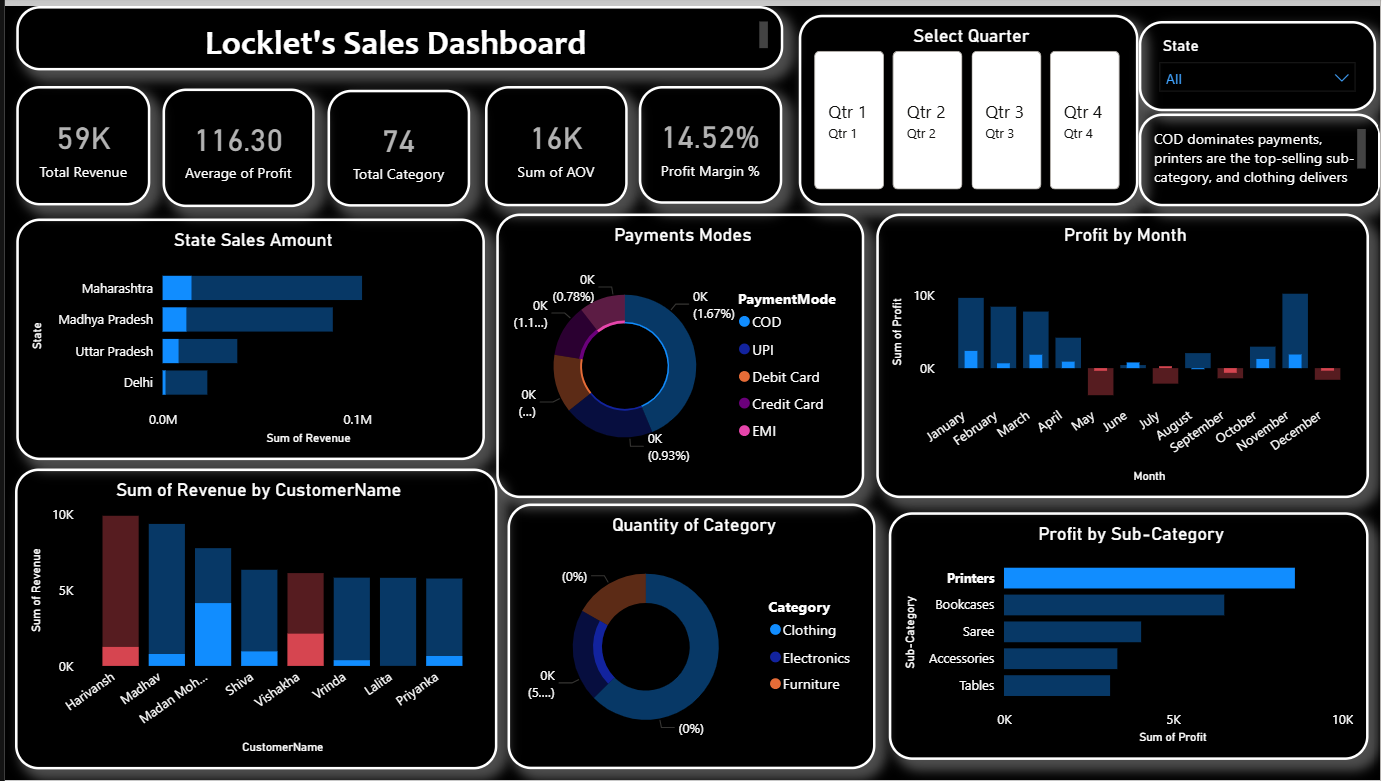

What the dashboard file says about the page in this screenshot:
{"tool":"powerbi","page":{"name":"Page 1","canvas":[1280,720],"ordinal":0},"visuals":[{"type":"textbox","box":[10,0,713.8,60],"z":0},{"type":"donutChart","title":"Quantity of Category","fields":{"Category":["Details.Category"],"Y":["Sum(Details.Quantity)"]},"box":[467.5,462.5,342.5,247.5],"z":1000},{"type":"clusteredColumnChart","title":"Profit by Month","fields":{"Y":["Sum(Details.Profit)"],"Category":["Orders.Order Date.Variation.Date Hierarchy.Month"]},"box":[810,192.5,458.8,265],"z":2000},{"type":"barChart","title":"Profit by Sub-Category","fields":{"Category":["Details.Sub-Category"],"Y":["Sum(Details.Profit)"]},"box":[822.5,471.2,446.2,230],"z":3000},{"type":"donutChart","title":"Quantity of Category","fields":{"Y":["Sum(Details.Quantity)"],"Category":["Details.PaymentMode"]},"box":[457.5,192.5,342.5,265],"z":4000},{"type":"card","fields":{"Values":["Sum(Details.Amount)"]},"box":[10,75,125,111.2],"z":5000},{"type":"card","fields":{"Values":["Avg(Details.Profit)"]},"box":[146.2,76.2,141.2,110],"z":6000},{"type":"card","fields":{"Values":["CountNonNull(Details.Category)"]},"box":[300,77.5,132.5,108.8],"z":7000},{"type":"card","fields":{"Values":["Sum(Details.AOV)"]},"box":[446.2,75,128.8,111.2],"z":8000},{"type":"barChart","title":"State Sales Amount","fields":{"Category":["Orders.State"],"Y":["Sum(Details.Amount)"]},"box":[10,197.5,436.2,225],"z":9000},{"type":"columnChart","fields":{"Category":["Orders.CustomerName"],"Y":["Sum(Details.Amount)"]},"box":[8.8,430,448.8,280],"z":10000},{"type":"advancedSlicerVisual","title":"Select Quarter","fields":{"Values":["Orders.Order Date.Variation.Date Hierarchy.Quarter"],"Label":["Min(Orders.Order Date.Variation.Date Hierarchy.Quarter)"]},"box":[738.5,8.4,301.4,177.7],"z":11000},{"type":"slicer","fields":{"Values":["Orders.State"]},"box":[1045.4,51.2,230.2,93],"z":12000},{"type":"card","fields":{"Values":["Details.Profit Margin %"]},"box":[589.6,74.4,133.3,109.3],"z":13000}]}

Visuals, with their boxes in screenshot pixels (x1, y1, x2, y2), scaled from the page's 1280x720 canvas onto the 1382x781 screenshot:
textbox: pyautogui.locateOnScreen(11, 0, 781, 65)
"Quantity of Category" donutChart: pyautogui.locateOnScreen(505, 502, 875, 770)
"Profit by Month" clusteredColumnChart: pyautogui.locateOnScreen(875, 209, 1370, 496)
"Profit by Sub-Category" barChart: pyautogui.locateOnScreen(888, 511, 1370, 761)
"Quantity of Category" donutChart: pyautogui.locateOnScreen(494, 209, 864, 496)
card - Sum(Details.Amount): pyautogui.locateOnScreen(11, 81, 146, 202)
card - Avg(Details.Profit): pyautogui.locateOnScreen(158, 83, 310, 202)
card - CountNonNull(Details.Category): pyautogui.locateOnScreen(324, 84, 467, 202)
card - Sum(Details.AOV): pyautogui.locateOnScreen(482, 81, 621, 202)
"State Sales Amount" barChart: pyautogui.locateOnScreen(11, 214, 482, 458)
columnChart - Orders.CustomerName x Sum(Details.Amount): pyautogui.locateOnScreen(10, 466, 494, 770)
"Select Quarter" advancedSlicerVisual: pyautogui.locateOnScreen(797, 9, 1123, 202)
slicer - Orders.State: pyautogui.locateOnScreen(1129, 56, 1377, 156)
card - Details.Profit Margin %: pyautogui.locateOnScreen(637, 81, 781, 199)
